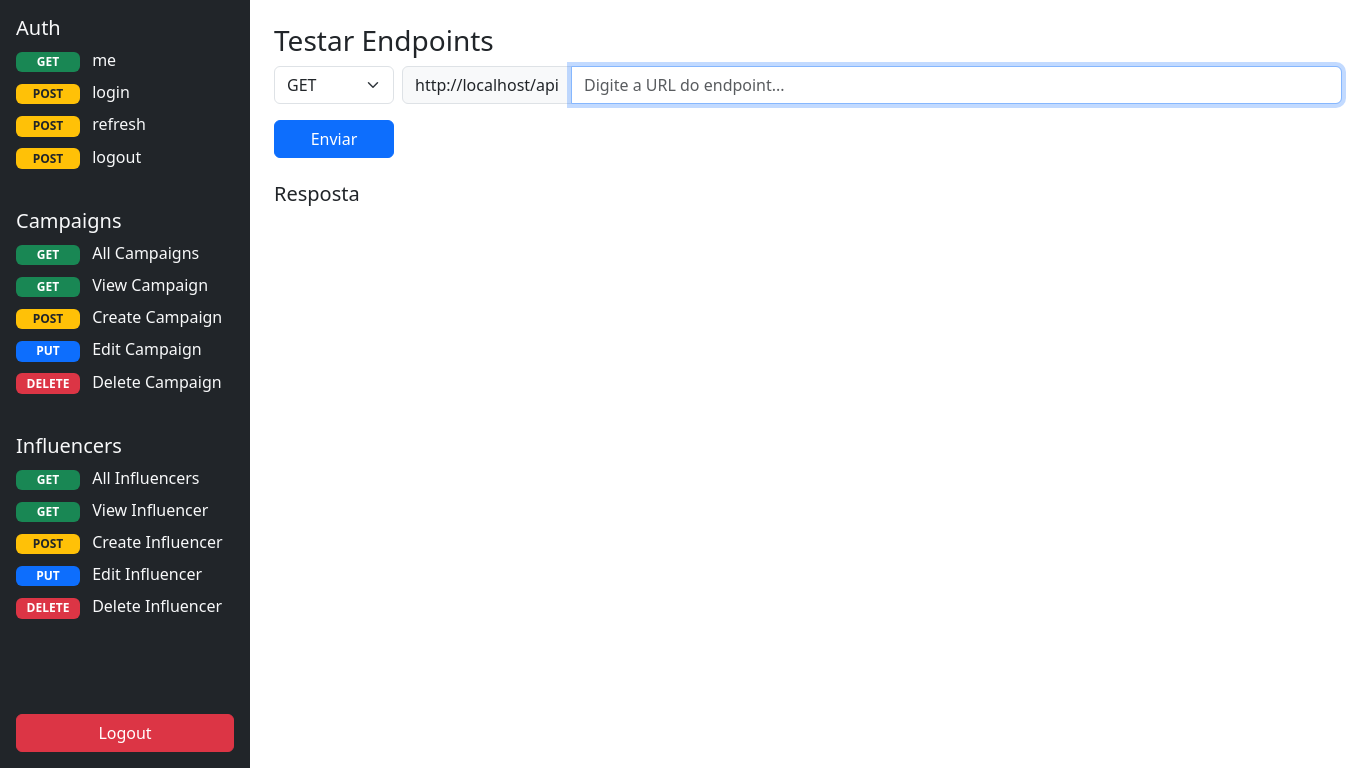
Test case: Sidebar Tests › Deve preencher o método e URL ao clicar em um endpoint
Click the list item "me" at (66, 61), box 16,49 -> 116,72
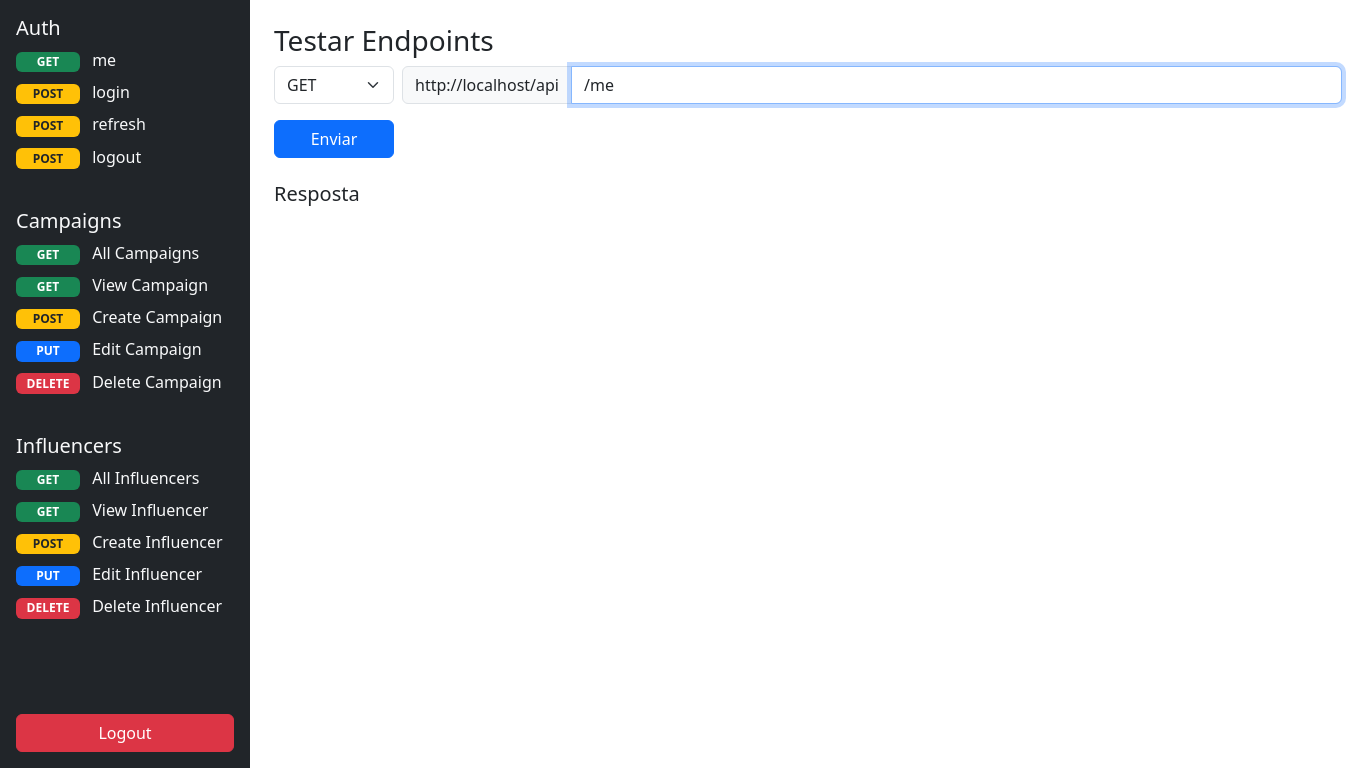
Expected: the dropdown shows "GET", 274,66 -> 394,104
Now the field holds "/me", box 571,66 -> 1342,104
